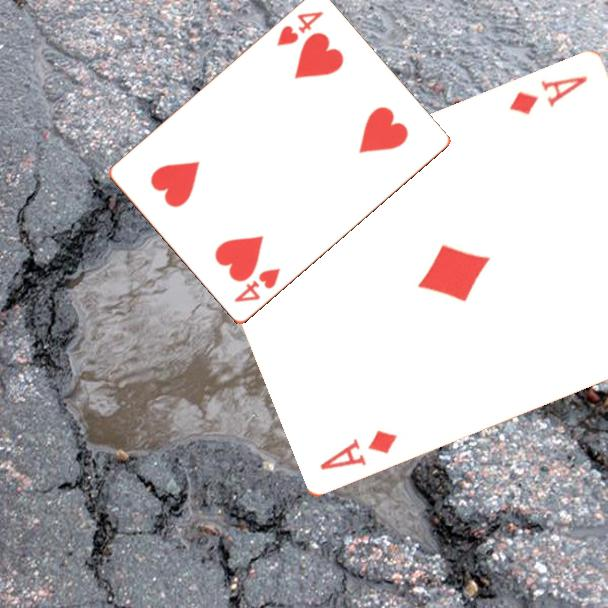d01: (315, 427, 401, 474), (505, 72, 590, 119)
h04: (273, 8, 326, 50), (230, 265, 284, 306)
